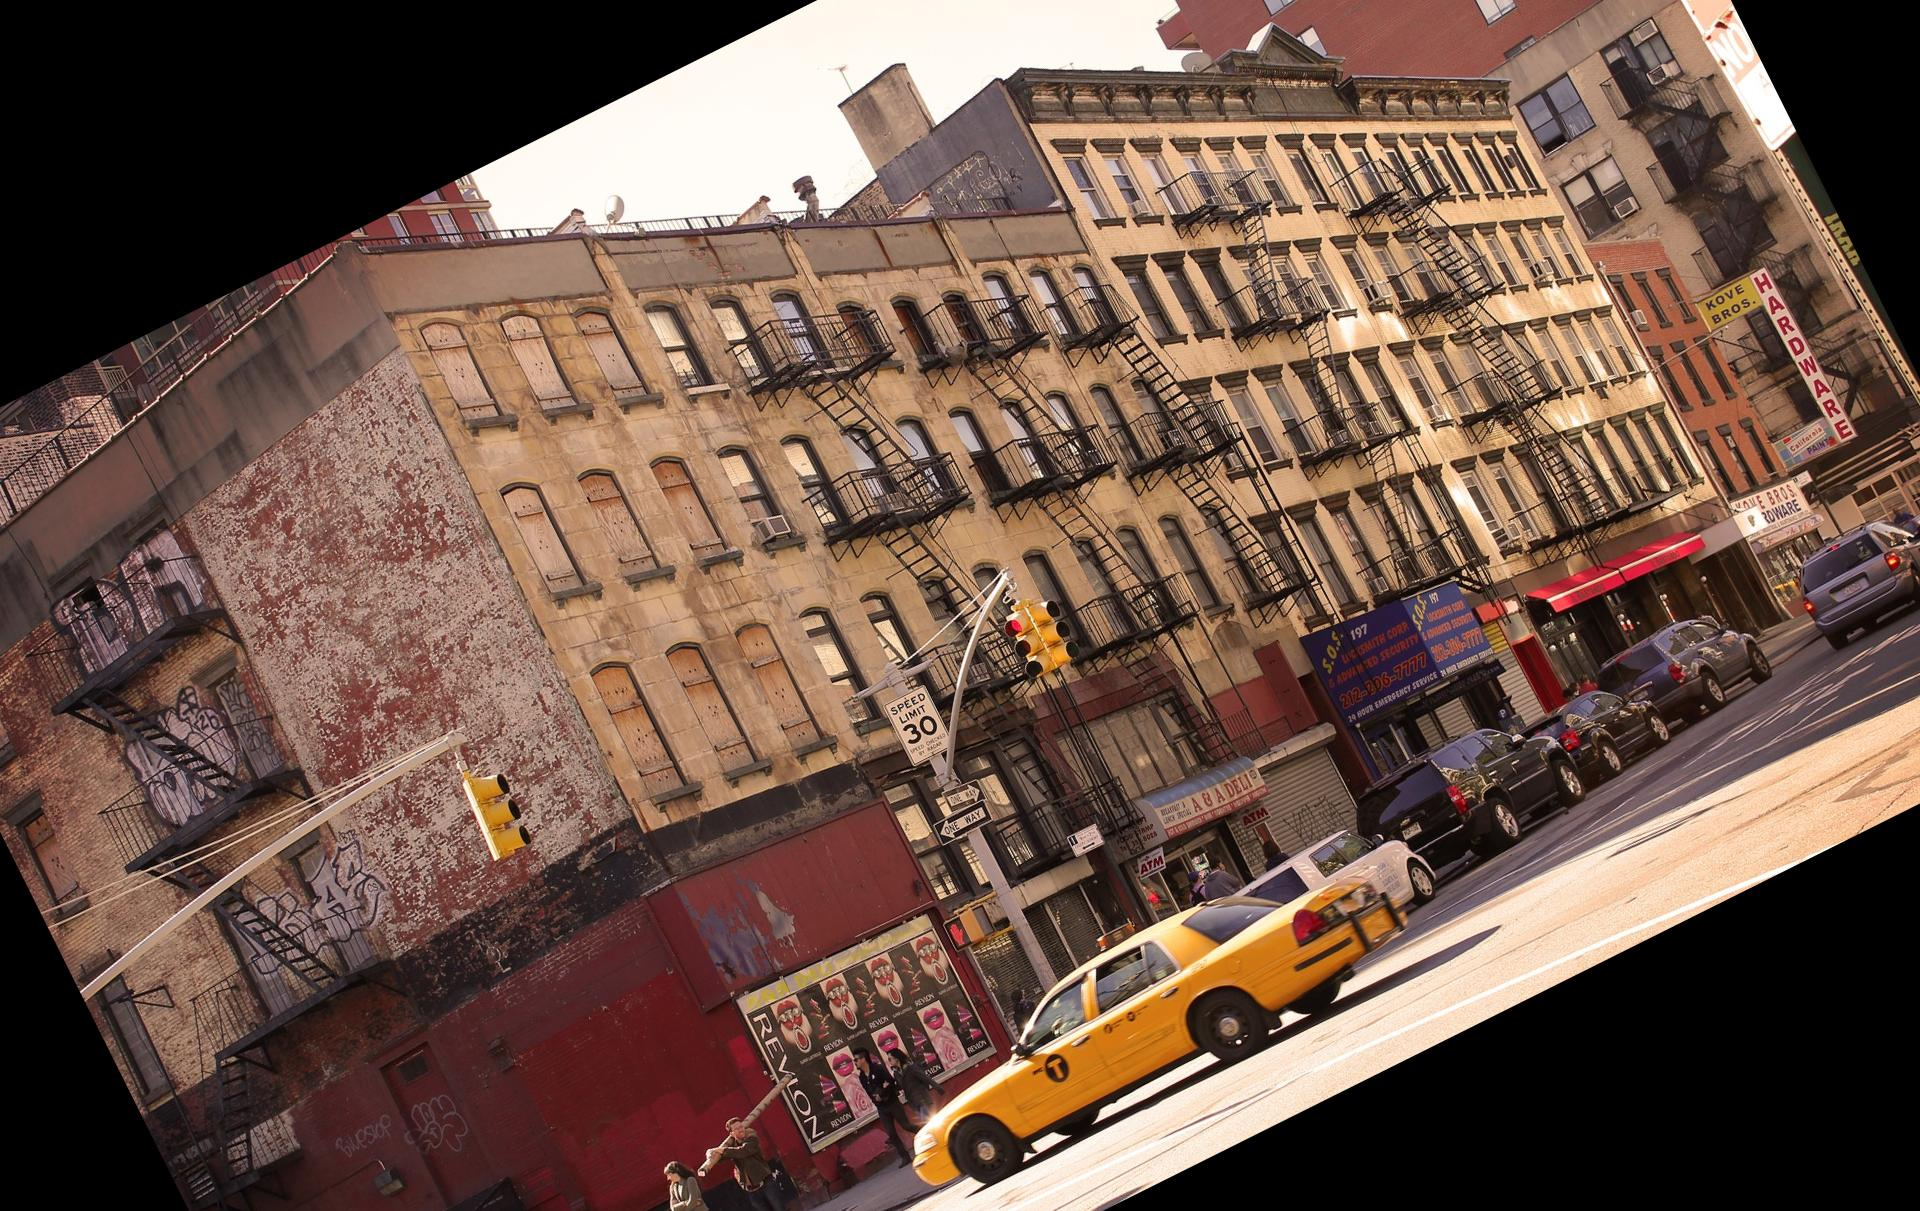taxi: (908, 872, 1402, 1196)
